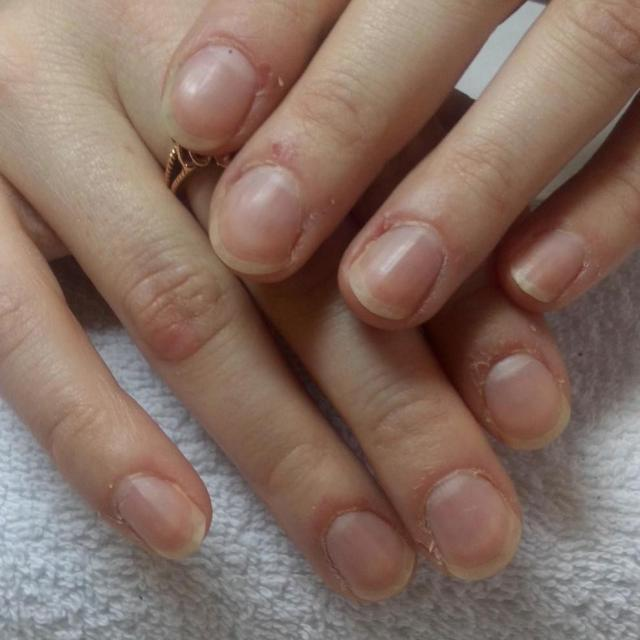Fingernail: (426, 472, 518, 580), (170, 44, 259, 145), (218, 165, 301, 273), (350, 223, 443, 318), (485, 355, 568, 449), (327, 511, 412, 601), (119, 475, 205, 558), (512, 231, 584, 302)
